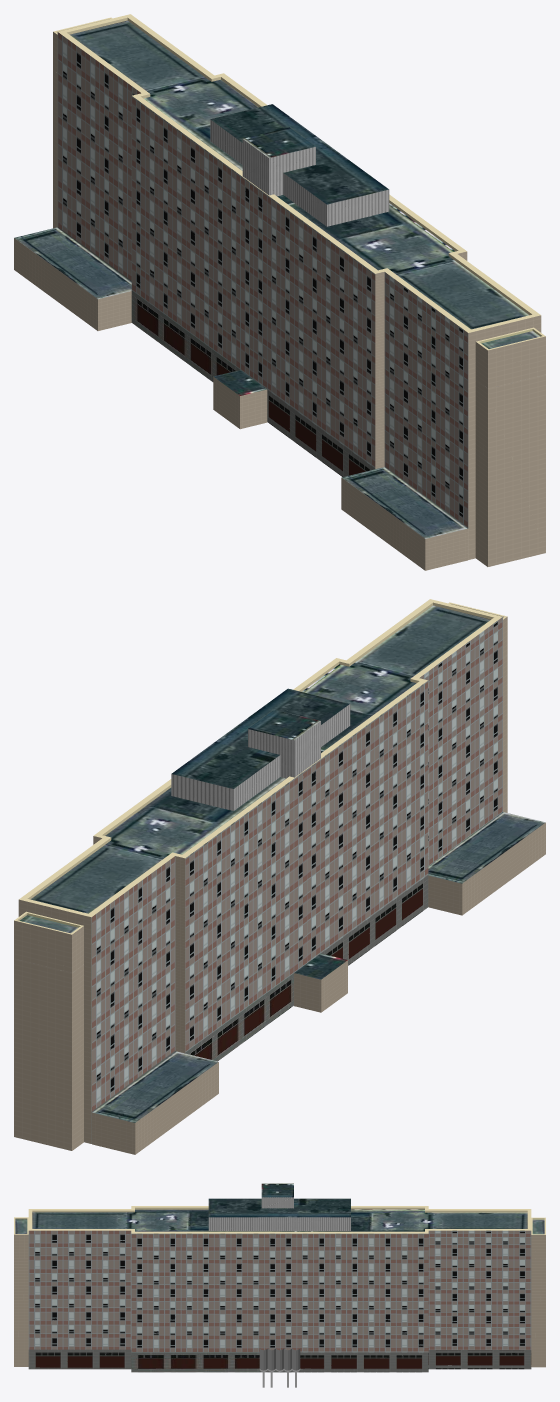
File: YONG.fbx
3 renders of one model, top to bottom at view 1: azimuth 30°, elevation 25°; view 2: azimuth 150°, elevation 25°; view 3: azimuth 270°, elevation 25°, orthographic. The views are drawn at different scales.
Parts seen in each view (by area): view 1: Component1, Component2, skpE657_1, Component2_1, Component2_2; view 2: Component2, Component1, skpE657_1, Component2_2, Component2_1; view 3: Component2, Component1, skpE657_1.
Boxes of the visible parts, x1,y1,x2,y2 form: Component1: (253, 184, 545, 566); Component2: (53, 14, 266, 381); skpE657_1: (210, 104, 389, 429); Component2_1: (341, 467, 468, 570); Component2_2: (14, 227, 131, 330); Component2: (14, 769, 306, 1150); Component1: (293, 599, 507, 965); skpE657_1: (171, 688, 350, 1012); Component2_2: (92, 1051, 218, 1154); Component2_1: (428, 812, 545, 915); Component2: (280, 1206, 545, 1372); Component1: (14, 1206, 279, 1372); skpE657_1: (208, 1183, 350, 1230).
Bounding box in the file's own units: 1197 × 1563 × 4657.
